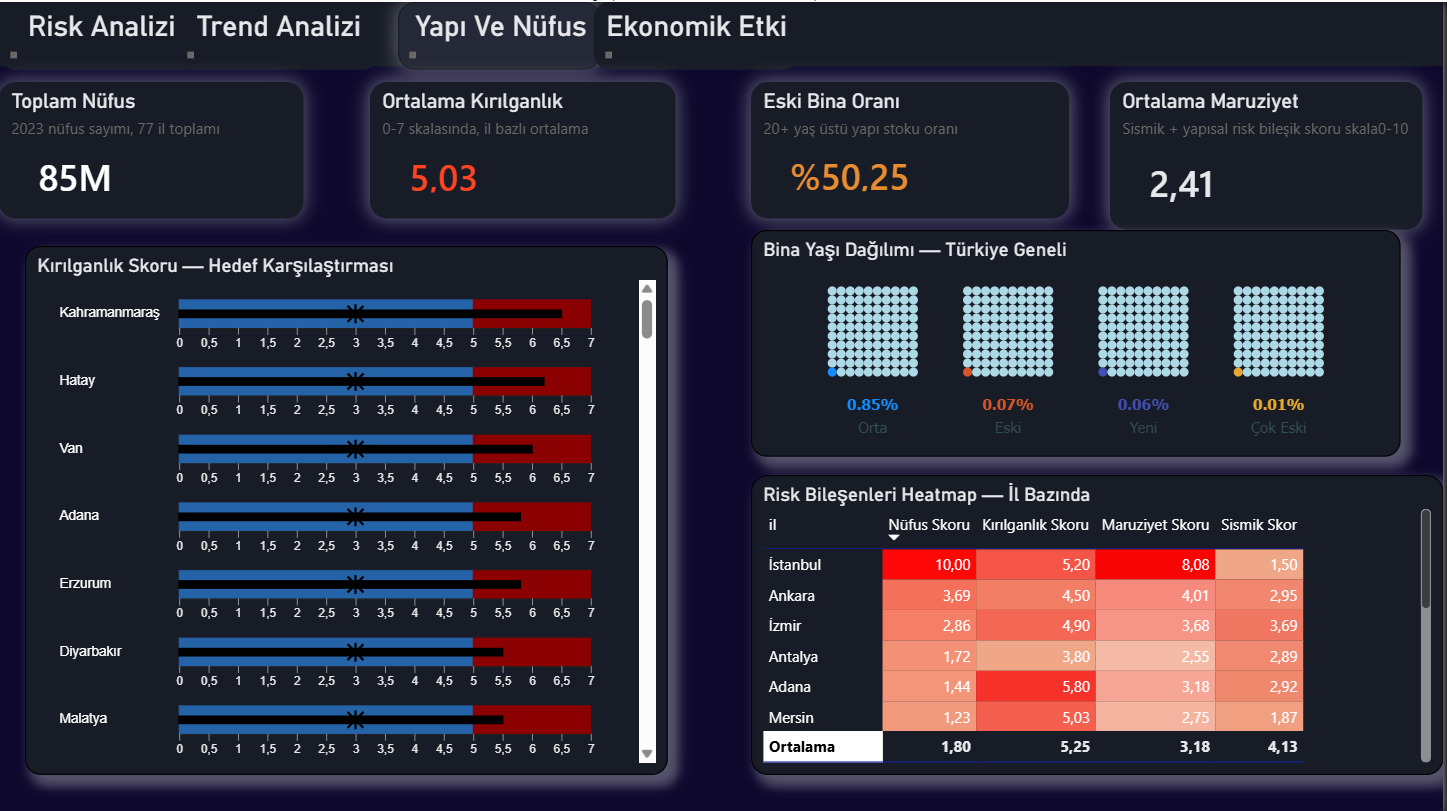

The dashboard page shown, as its layout file describes it:
{"tool":"powerbi","page":{"name":"Yapı ve Nüfus  Riski","canvas":[1280,720],"ordinal":2},"visuals":[{"type":"actionButton","box":[0,0,1280,57.5],"z":0},{"type":"actionButton","title":"Risk Analizi","box":[0,0,180,60],"z":1000},{"type":"actionButton","title":"Yapı Ve Nüfus","box":[353.5,0,180,60],"z":2000},{"type":"actionButton","title":"Trend Analizi","box":[157.1,0,180,60],"z":3000},{"type":"actionButton","title":"Ekonomik Etki","box":[527.9,0,180,60],"z":4000},{"type":"cardVisual","title":"Ortalama Kırılganlık","fields":{"Data":["Avg(maruziyet_skoru.kirilganlik_skoru)"]},"box":[329,71,271,121],"z":5000},{"type":"cardVisual","title":"Ortalama Maruziyet","fields":{"Data":["Avg(maruziyet_skoru.maruziyet_skoru)"]},"box":[985,71,277,131],"z":6000},{"type":"cardVisual","title":"Eski Bina Oranı","fields":{"Data":["Avg(maruziyet_skoru.eski_bina_orani)"]},"box":[666.8,70.9,282,120.6],"z":7000},{"type":"cardVisual","title":"Toplam Nüfus","fields":{"Data":["Sum(maruziyet_skoru.nufus_2023)"]},"box":[0,71,270,121],"z":8000},{"type":"WaffleChart1453776852267","title":"Bina Yaşı Dağılımı — Türkiye Geneli","fields":{"Values":["_Ölçüler.Bina Yasi Yuzde"],"Category":["maruziyet_skoru.bina_yas_grubu"]},"box":[666.8,202.2,576.4,201.3],"z":9000},{"type":"BulletChart1443347686880","title":"Kırılganlık Skoru — Hedef Karşılaştırması","fields":{"TargetValue":["_Ölçüler.Hedef Kirilganlik"],"NeedsImprovement":["_Ölçüler.Sinir_Kotu"],"Satisfactory":["_Ölçüler.Sinir_Orta"],"Good":["_Ölçüler.Sinir_Iyi"],"Maximum":["_Ölçüler.Maksimum_Kirilganlik"],"TargetValue2":["_Ölçüler.Hedef Kirilganlik"],"Value":["Avg(maruziyet_skoru.kirilganlik_skoru)"],"Category":["maruziyet_skoru.il"]},"box":[23.1,216.4,570.1,469.1],"z":10000},{"type":"pivotTable","title":"Risk Bileşenleri Heatmap — İl Bazında","fields":{"Rows":["il_risk_skoru_duzeltilmis.il"],"Values":["Avg(maruziyet_skoru.nufus_skoru)","Avg(maruziyet_skoru.kirilganlik_skoru)","Avg(maruziyet_skoru.maruziyet_skoru)","Avg(il_sismik_istatistik_v2.sismik_skor)"]},"box":[666.8,419.4,613.6,266],"z":11000}]}

Visuals, with their boxes in screenshot pixels (x1, y1, x2, y2), scaled from the page's 1280x720 canvas onto the 1447x811 screenshot:
actionButton: x1=0 y1=0 x2=1446 y2=65
"Risk Analizi" actionButton: x1=0 y1=0 x2=203 y2=68
"Yapı Ve Nüfus" actionButton: x1=400 y1=0 x2=603 y2=68
"Trend Analizi" actionButton: x1=178 y1=0 x2=381 y2=68
"Ekonomik Etki" actionButton: x1=597 y1=0 x2=800 y2=68
"Ortalama Kırılganlık" cardVisual: x1=372 y1=80 x2=678 y2=216
"Ortalama Maruziyet" cardVisual: x1=1114 y1=80 x2=1427 y2=228
"Eski Bina Oranı" cardVisual: x1=754 y1=80 x2=1073 y2=216
"Toplam Nüfus" cardVisual: x1=0 y1=80 x2=305 y2=216
"Bina Yaşı Dağılımı — Türkiye Geneli" WaffleChart1453776852267: x1=754 y1=228 x2=1405 y2=454
"Kırılganlık Skoru — Hedef Karşılaştırması" BulletChart1443347686880: x1=26 y1=244 x2=671 y2=772
"Risk Bileşenleri Heatmap — İl Bazında" pivotTable: x1=754 y1=472 x2=1446 y2=772
